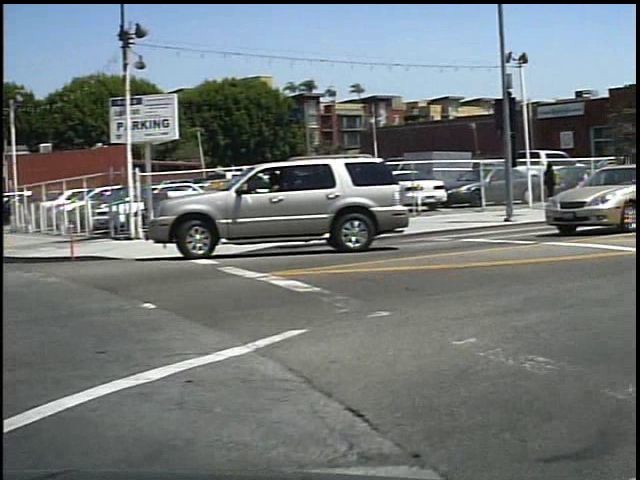person: (544, 159, 568, 215)
